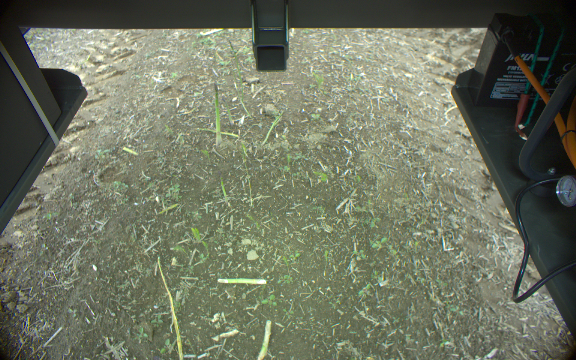aspa: (230, 78, 252, 121), (212, 83, 224, 150), (260, 111, 281, 148), (216, 274, 266, 289), (257, 319, 273, 360), (226, 37, 241, 67), (217, 176, 227, 203)
